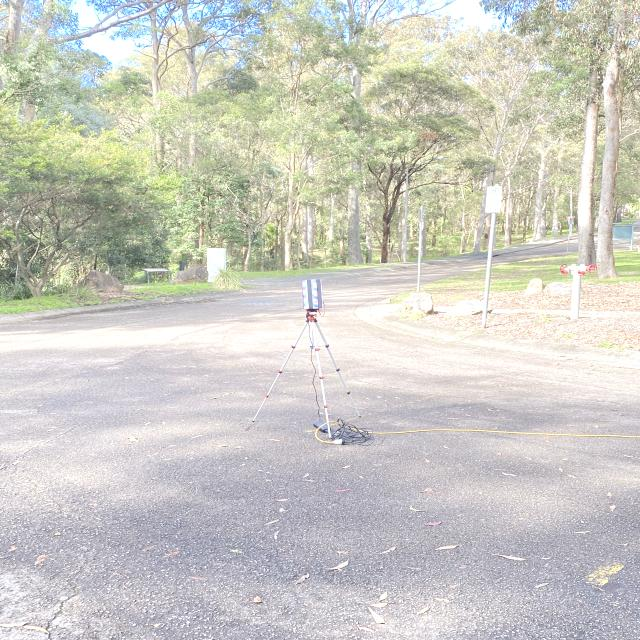matrix: (300, 278, 326, 311)
